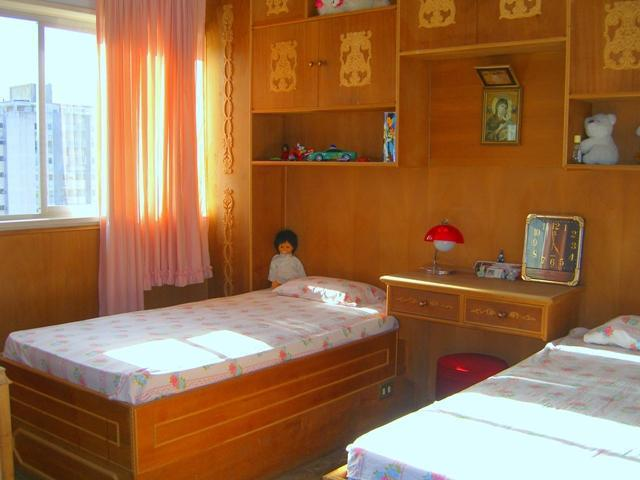Cama: (26, 289, 379, 472), (336, 317, 636, 472)
